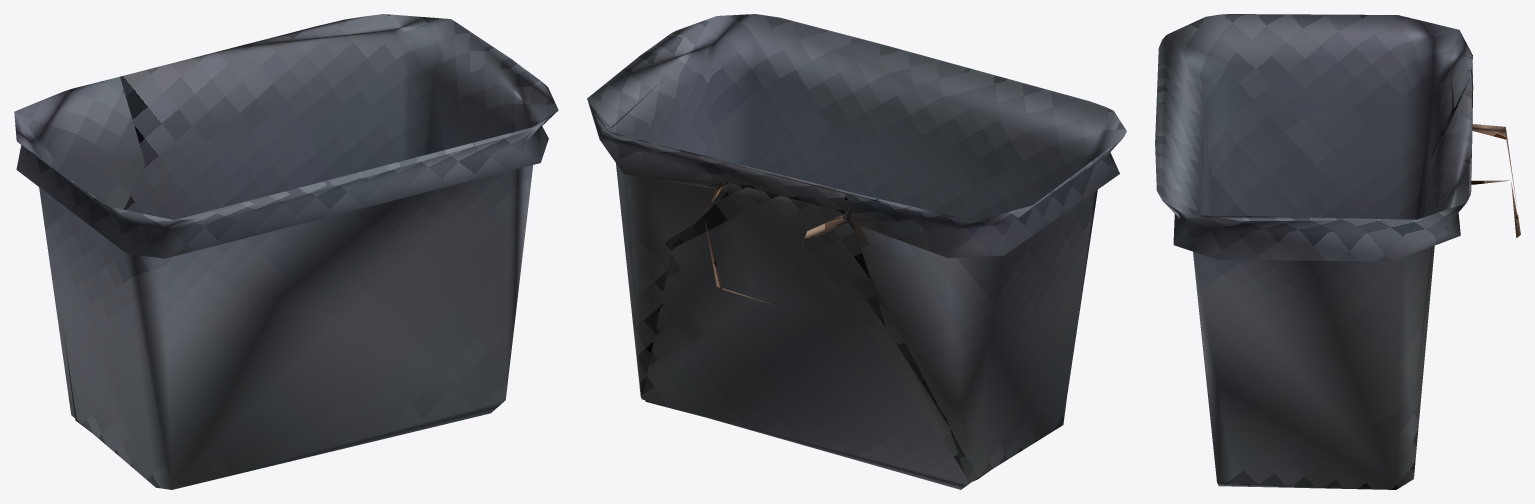
The model's file is Full_Circle_Happy_Scraps_Out_Collector_Gray-low.glb.
The picture shows the model from 3 angles, left to right: view 1: azimuth 30°, elevation 25°; view 2: azimuth 150°, elevation 25°; view 3: azimuth 270°, elevation 25°; orthographic projection. The views are drawn at different scales.
Parts seen in each view (by area): view 1: Full_Circle_Happy_Scraps_Out_Collector_Gray; view 2: Full_Circle_Happy_Scraps_Out_Collector_Gray; view 3: Full_Circle_Happy_Scraps_Out_Collector_Gray.
Boxes of the visible parts, box(x1,y1,x2,y2) form: Full_Circle_Happy_Scraps_Out_Collector_Gray: box(14, 14, 558, 489); Full_Circle_Happy_Scraps_Out_Collector_Gray: box(587, 14, 1126, 489); Full_Circle_Happy_Scraps_Out_Collector_Gray: box(1155, 14, 1520, 489).
Size of the model in its own units: 0.2129 by 0.1415 by 0.1546.
1 material, 1 textured.
